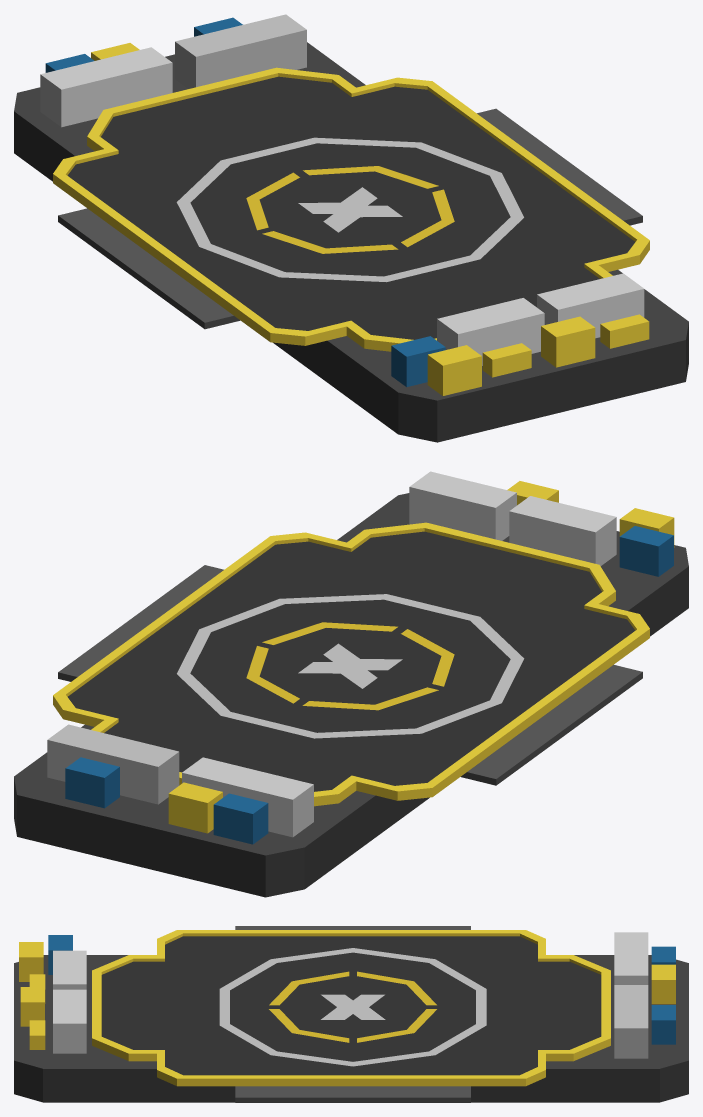
The model's file is SM_Prop_OceanLandingPlatform_01.fbx.
The picture shows the model from 3 angles, top to bottom: view 1: azimuth 30°, elevation 25°; view 2: azimuth 150°, elevation 25°; view 3: azimuth 270°, elevation 25°; orthographic projection. The views are drawn at different scales.
Parts seen in each view (by area): view 1: SM_Prop_OceanLandingPlatform_01; view 2: SM_Prop_OceanLandingPlatform_01; view 3: SM_Prop_OceanLandingPlatform_01.
Part boxes in pixels (box(x1,y1,x2,y2)): SM_Prop_OceanLandingPlatform_01: box(14, 14, 688, 442); SM_Prop_OceanLandingPlatform_01: box(14, 471, 688, 897); SM_Prop_OceanLandingPlatform_01: box(14, 926, 688, 1102).
Bounding box in the file's own units: 13.34 × 2.32 × 22.17.
